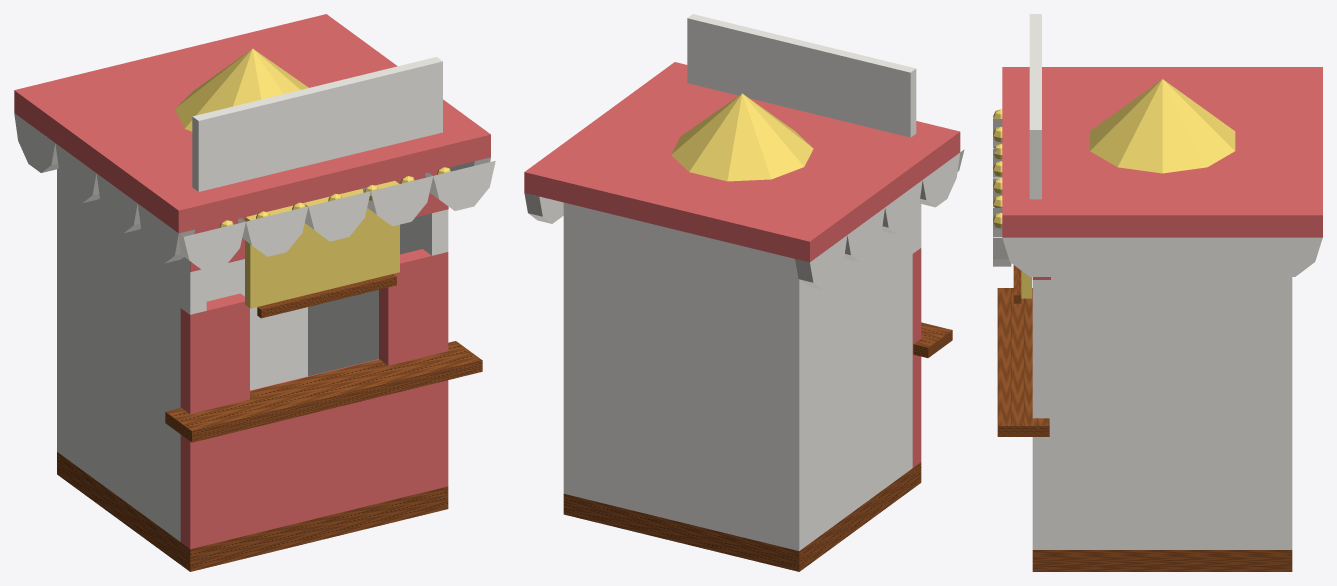
The model's file is travelling-circus-and-big-top-circus-ticket-booth-428cc272.glb.
3 views of the same model, side by side, from view 1: azimuth 30°, elevation 25°; view 2: azimuth 150°, elevation 25°; view 3: azimuth 270°, elevation 25° (orthographic). The views are drawn at different scales.
Parts seen in each view (by area): view 1: circus-ticket-booth-canvas, circus-ticket-booth-stripe, circus-ticket-booth-timber, hatch/gold, circus-ticket-booth-gold, hatch/timber; view 2: circus-ticket-booth-canvas, circus-ticket-booth-stripe, circus-ticket-booth-timber, circus-ticket-booth-gold; view 3: circus-ticket-booth-canvas, circus-ticket-booth-stripe, circus-ticket-booth-timber, circus-ticket-booth-gold.
Boxes of the visible parts, x1,y1,x2,y2 form: circus-ticket-booth-canvas: (14, 57, 495, 541); circus-ticket-booth-stripe: (14, 14, 490, 549); circus-ticket-booth-timber: (57, 341, 482, 571); hatch/gold: (245, 180, 399, 308); circus-ticket-booth-gold: (175, 48, 450, 227); hatch/timber: (257, 274, 396, 318); circus-ticket-booth-canvas: (524, 14, 964, 550); circus-ticket-booth-stripe: (524, 62, 960, 467); circus-ticket-booth-timber: (563, 322, 952, 571); circus-ticket-booth-gold: (671, 93, 813, 181); circus-ticket-booth-canvas: (993, 14, 1322, 549); circus-ticket-booth-stripe: (1002, 67, 1322, 279); circus-ticket-booth-timber: (997, 288, 1292, 571); circus-ticket-booth-gold: (993, 79, 1235, 228).
Bounding box in the file's own units: 2.3 × 3.17 × 2.16.
4 materials, 1 textured.
